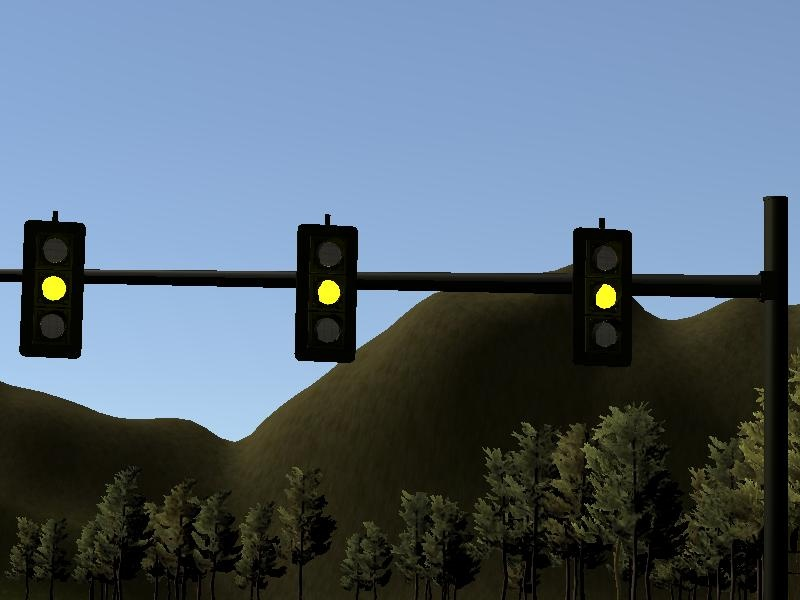yellow: (282, 206, 366, 372), (11, 201, 91, 365), (562, 209, 641, 374)
